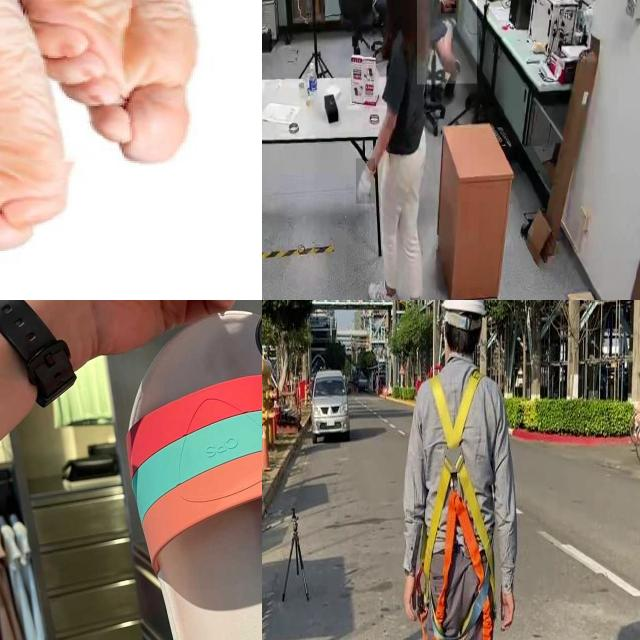Barefoots: (21, 0, 243, 152), (0, 0, 63, 300)
Harness: (422, 369, 494, 640)
Sandals: (91, 300, 262, 640)
hand_glove: (356, 158, 376, 204)
hand_noglove: (441, 0, 456, 14), (445, 0, 456, 8)
person: (362, 0, 435, 300), (416, 0, 477, 84)
shoes: (363, 277, 398, 300)
